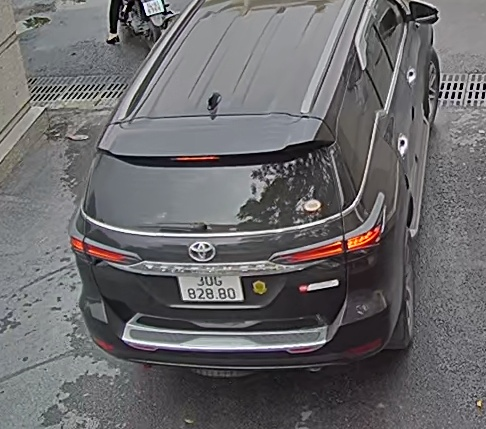vehicle plate: (175, 268, 246, 307)
